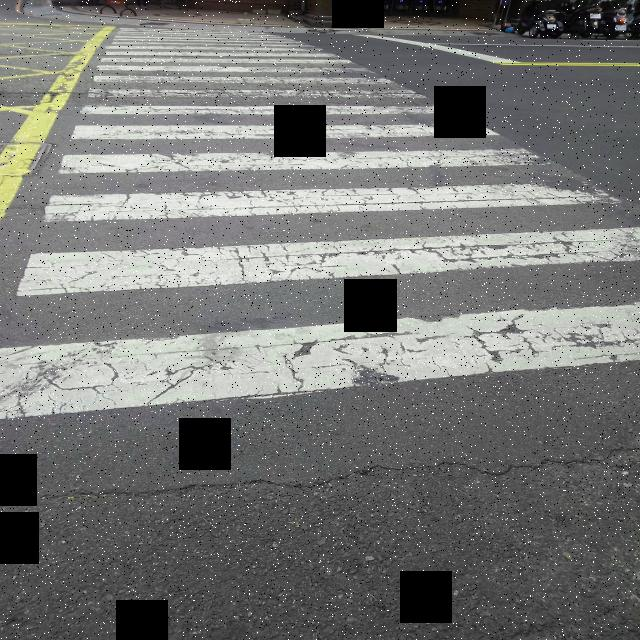zebra crossing: (0, 30, 640, 417)
